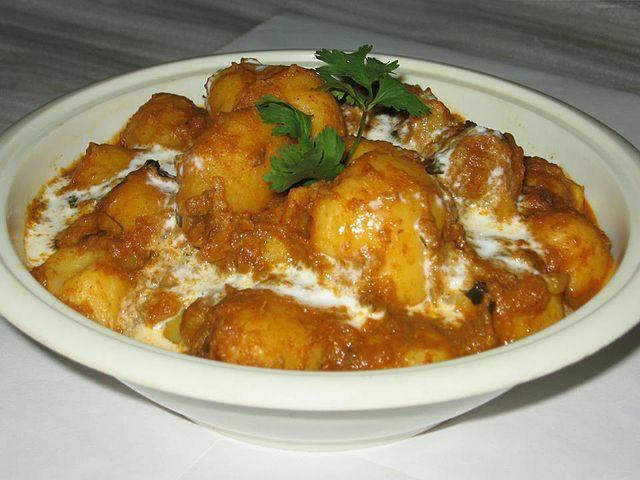DumAloo: (25, 47, 616, 371)
